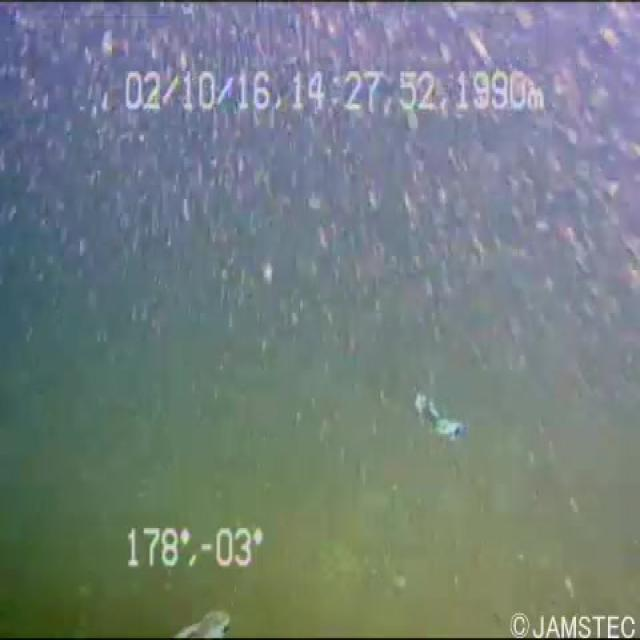plastic: (396, 386, 487, 468), (151, 566, 253, 638)
